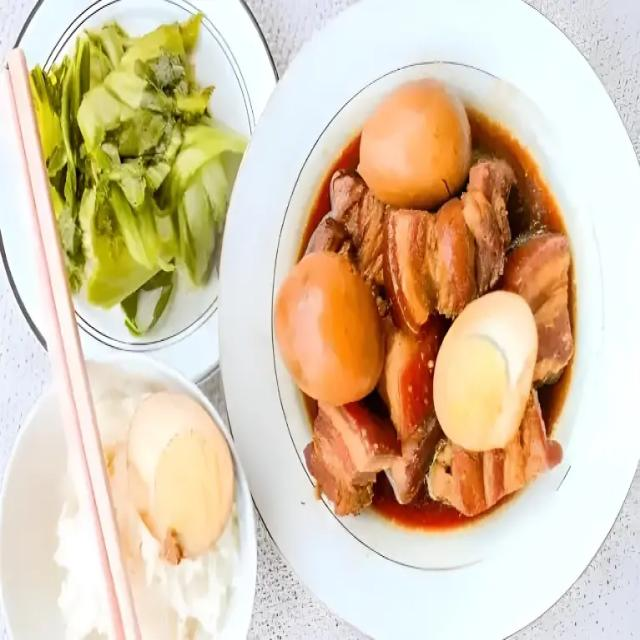com: (0, 388, 108, 639), (120, 442, 256, 639), (88, 359, 229, 454)
kho trung: (275, 80, 572, 513)
trung luoc: (127, 393, 234, 564)
